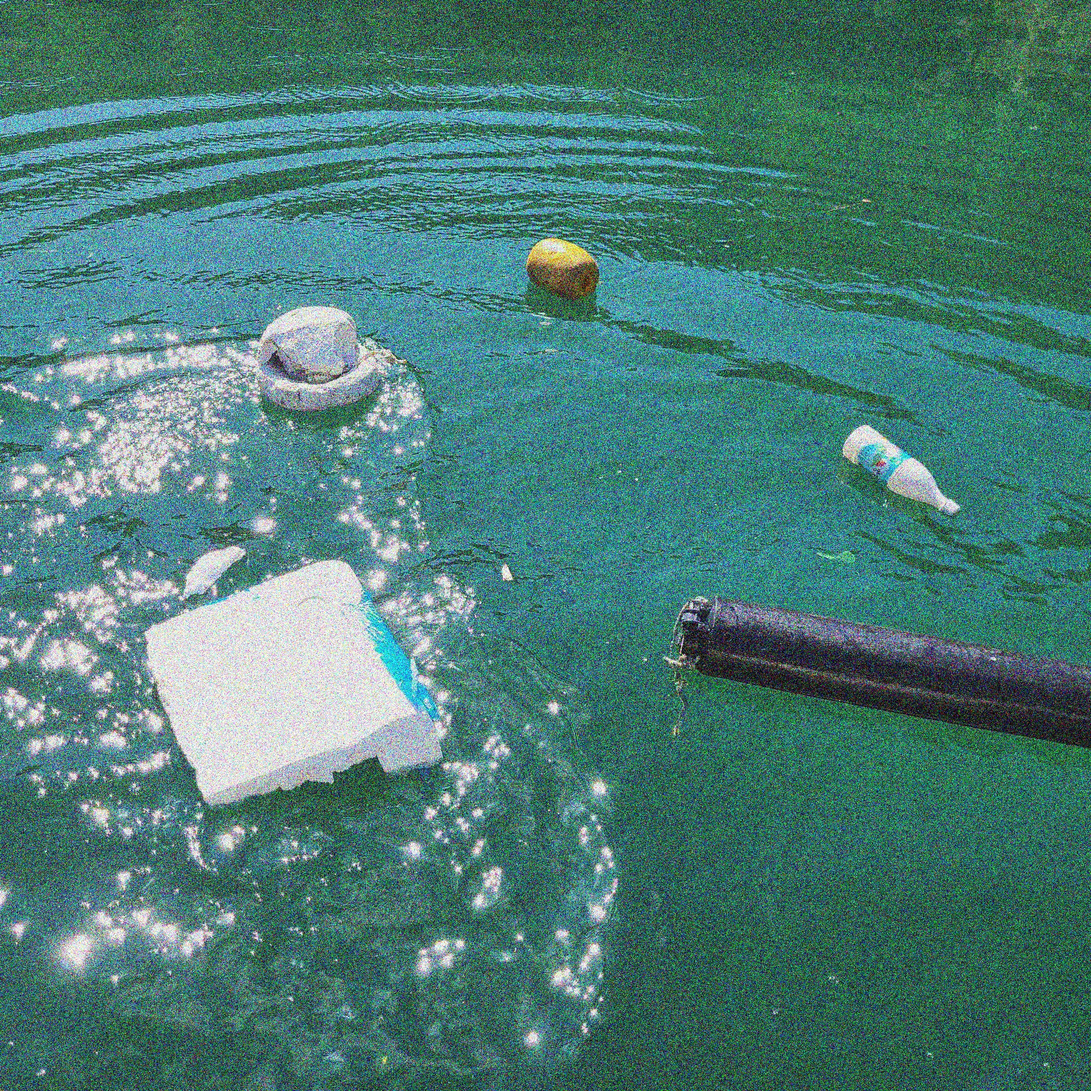sampah_terapung: (145, 560, 444, 811), (676, 596, 1091, 750), (256, 306, 381, 413), (843, 425, 962, 517), (526, 238, 600, 301), (184, 547, 246, 599), (664, 654, 699, 743), (372, 349, 406, 366)
